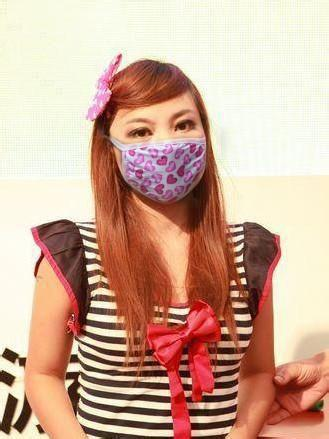OK: (119, 108, 209, 198)
